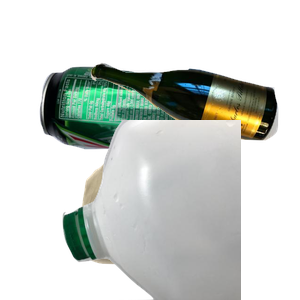glass: (88, 60, 300, 193)
metal: (37, 64, 245, 214)
plastic: (60, 120, 300, 300)
trash: (76, 124, 287, 300)
